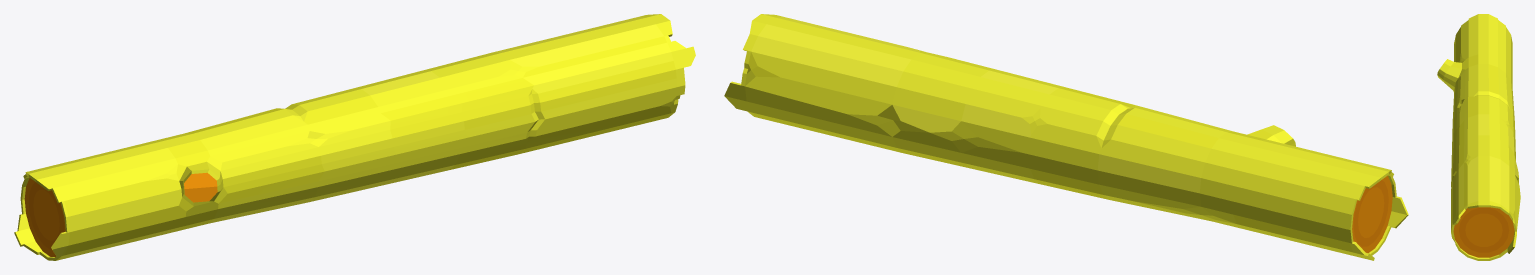
File: Log_10.fbx
3 renders of one model, left to right at view 1: azimuth 30°, elevation 25°; view 2: azimuth 150°, elevation 25°; view 3: azimuth 270°, elevation 25°, orthographic. The views are drawn at different scales.
Parts seen in each view (by area): view 1: Circle.294; view 2: Circle.294; view 3: Circle.294.
Part boxes in pixels (<box>): Circle.294: <box>14,14,695,260</box>; Circle.294: <box>724,14,1408,260</box>; Circle.294: <box>1437,14,1520,260</box>.
Size of the model in its own units: 218 by 30.39 by 38.98.
